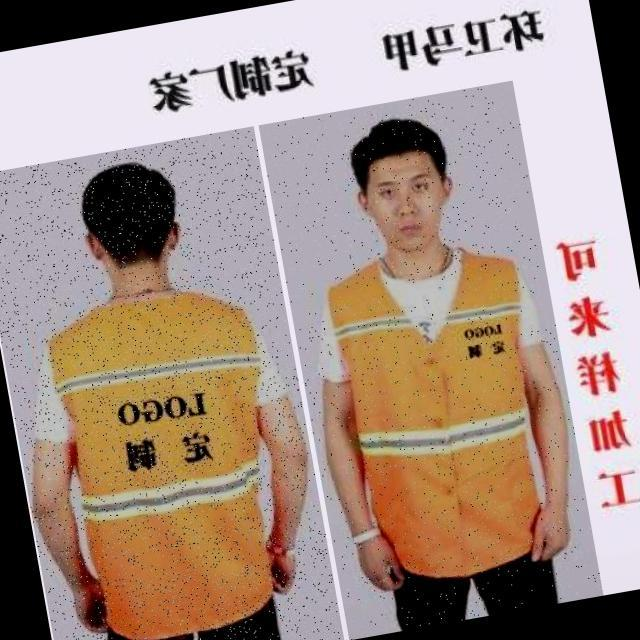Person: (313, 103, 588, 636), (18, 154, 318, 640)
Safety Vest: (33, 270, 307, 640), (320, 240, 565, 589)
bare-arms: (343, 530, 408, 598), (521, 507, 578, 572), (64, 570, 112, 630), (256, 543, 301, 605)
no-helmet: (79, 159, 182, 223), (342, 116, 451, 171)
